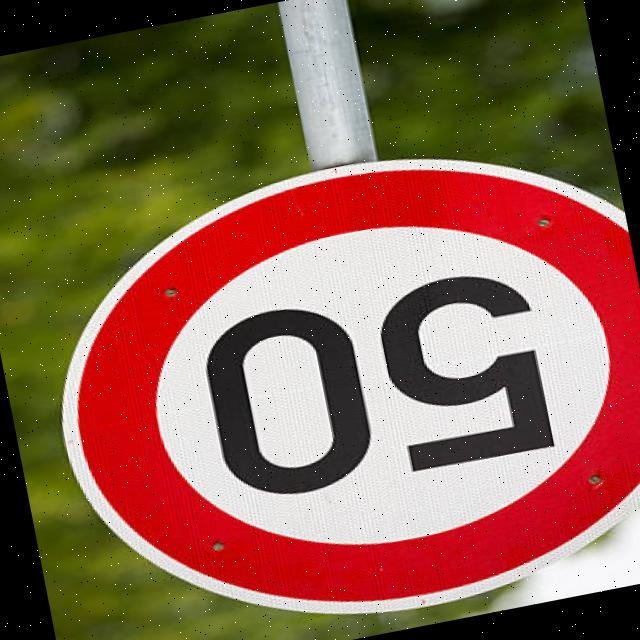speed_limit_50: (3, 107, 640, 640)
